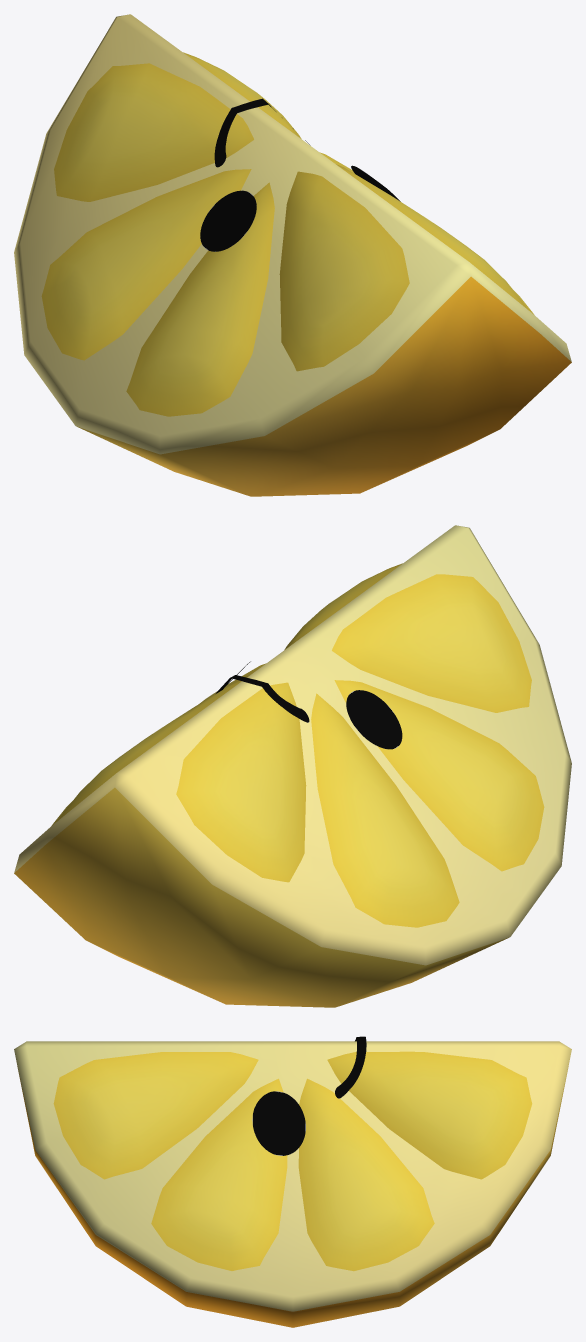
Rendered from lemon_piece_smile.fbx.
3 renders of one model, top to bottom at view 1: azimuth 30°, elevation 25°; view 2: azimuth 150°, elevation 25°; view 3: azimuth 270°, elevation 25°, orthographic. The views are drawn at different scales.
Visible parts, largest first — view 1: lemon_piece; view 2: lemon_piece; view 3: lemon_piece.
Part boxes in pixels (left/top/right/bottom): lemon_piece: left=14, top=14, right=571, bottom=496; lemon_piece: left=14, top=525, right=571, bottom=1007; lemon_piece: left=14, top=1036, right=571, bottom=1327.
Size of the model in its own units: 19.43 by 27.47 by 14.2.
